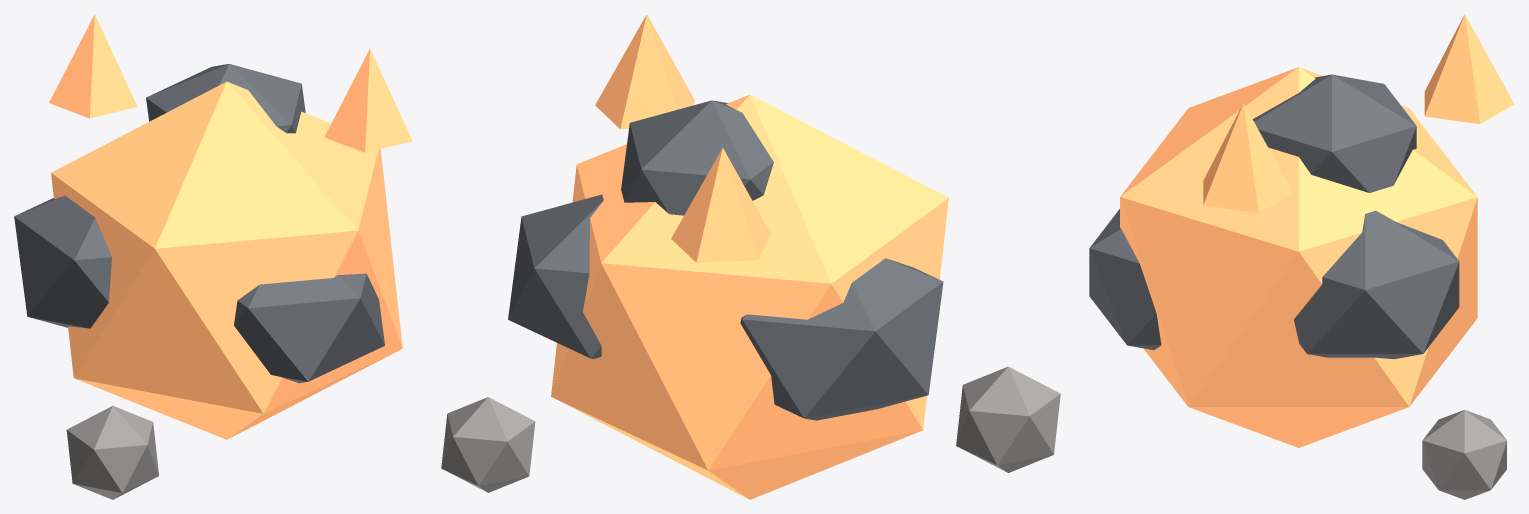
The model's file is volcanic_bomb.glb.
3 views of the same model, side by side, from view 1: azimuth 30°, elevation 25°; view 2: azimuth 150°, elevation 25°; view 3: azimuth 270°, elevation 25° (orthographic). The views are drawn at different scales.
Visible parts, largest first — view 1: core, crust_2, crust_0, ash_0, ember_1, ember_0, crust_3; view 2: core, crust_0, crust_3, crust_1, ash_0, ash_1, ember_0, ember_1; view 3: core, crust_1, crust_3, ash_1, crust_2, ember_0, ember_1.
Boxes of the visible parts, bbox=[...] form: core: bbox=[51, 81, 402, 439]; crust_2: bbox=[234, 273, 384, 383]; crust_0: bbox=[14, 195, 111, 328]; ash_0: bbox=[66, 406, 158, 499]; ember_1: bbox=[324, 49, 412, 152]; ember_0: bbox=[49, 14, 137, 118]; crust_3: bbox=[146, 64, 305, 133]; core: bbox=[551, 94, 948, 499]; crust_0: bbox=[740, 258, 943, 420]; crust_3: bbox=[621, 100, 773, 215]; crust_1: bbox=[508, 194, 603, 358]; ash_0: bbox=[956, 366, 1060, 472]; ash_1: bbox=[441, 397, 535, 492]; ember_0: bbox=[671, 147, 770, 262]; ember_1: bbox=[595, 14, 694, 129]; core: bbox=[1120, 67, 1477, 447]; crust_1: bbox=[1294, 210, 1459, 359]; crust_3: bbox=[1252, 74, 1416, 192]; ash_1: bbox=[1422, 410, 1506, 499]; crust_2: bbox=[1089, 209, 1161, 350]; ember_0: bbox=[1424, 14, 1514, 123]; ember_1: bbox=[1203, 103, 1292, 212].
Bounding box in the file's own units: 0.8899 × 0.81 × 0.7686.
